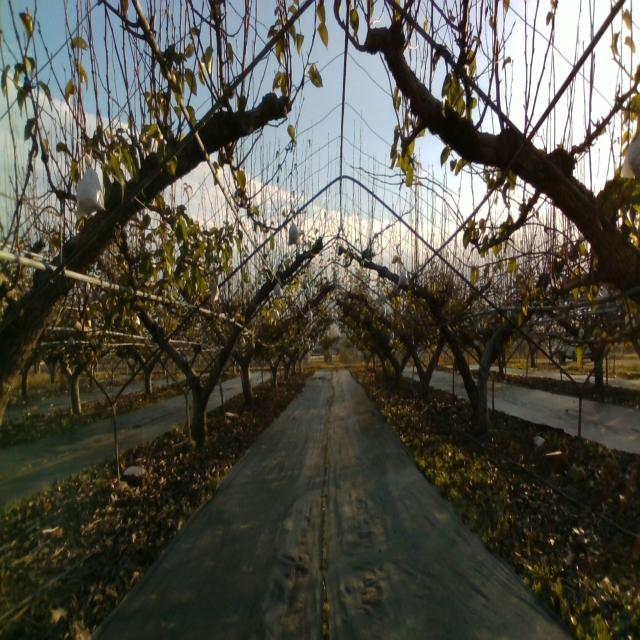pearbags: (76, 153, 106, 220), (288, 218, 302, 246), (398, 267, 410, 288)
